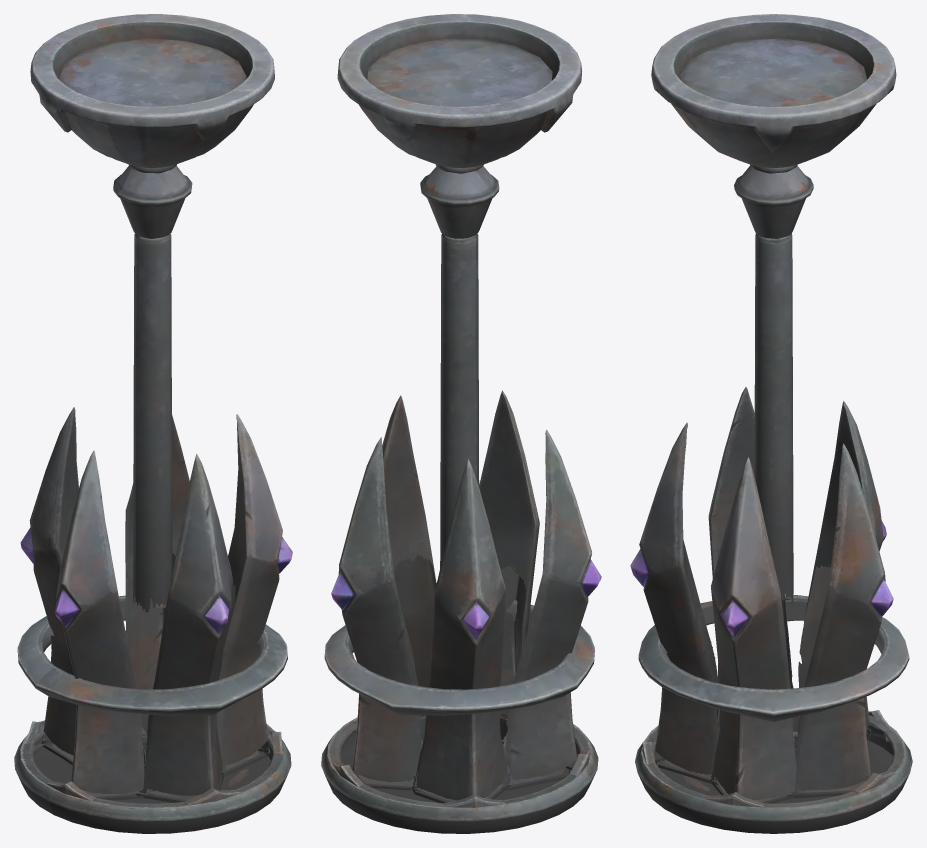
3 renders of one model, left to right at view 1: azimuth 30°, elevation 25°; view 2: azimuth 150°, elevation 25°; view 3: azimuth 270°, elevation 25°, orthographic.
Visible parts, largest first — view 1: SM_Temple_Candelabra_01_LOD0; view 2: SM_Temple_Candelabra_01_LOD0; view 3: SM_Temple_Candelabra_01_LOD0.
Part boxes in pixels (bbox=[...]): SM_Temple_Candelabra_01_LOD0: bbox=[14, 14, 292, 833]; SM_Temple_Candelabra_01_LOD0: bbox=[321, 14, 601, 833]; SM_Temple_Candelabra_01_LOD0: bbox=[630, 14, 912, 833].
Size of the model in its own units: 0.6233 by 1.77 by 0.6339.
1 material, 1 textured.
